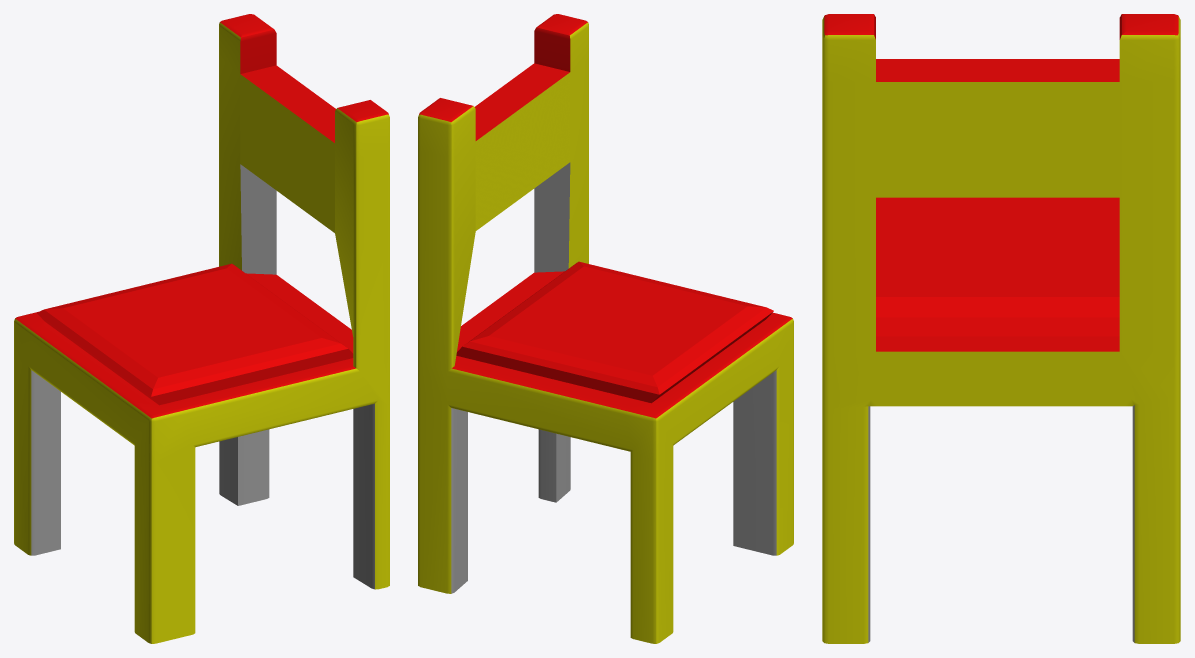
Rendered from Chair.fbx.
3 renders of one model, left to right at view 1: azimuth 30°, elevation 25°; view 2: azimuth 150°, elevation 25°; view 3: azimuth 270°, elevation 25°, orthographic. The views are drawn at different scales.
Visible parts, largest first — view 1: Chair; view 2: Chair; view 3: Chair.
Part boxes in pixels (x1=…): Chair: x1=14, y1=14, x2=389, y2=643; Chair: x1=418, y1=14, x2=793, y2=643; Chair: x1=822, y1=14, x2=1180, y2=643.
Size of the model in its own units: 23.96 by 44.98 by 23.96.
